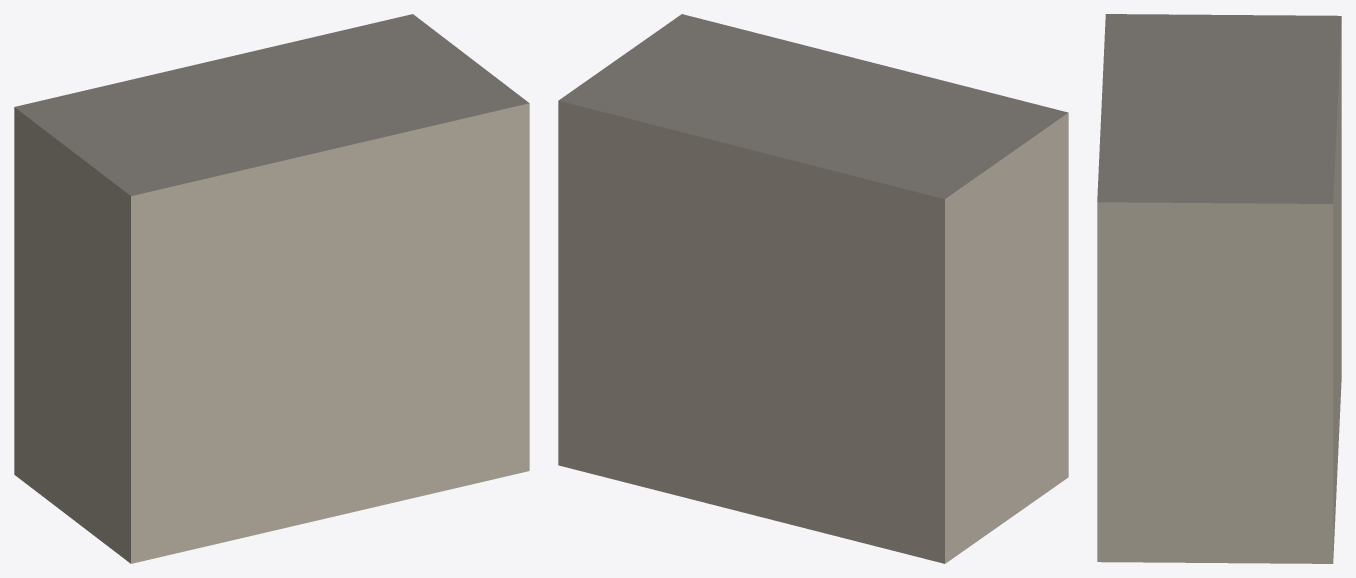
3 renders of one model, left to right at view 1: azimuth 30°, elevation 25°; view 2: azimuth 150°, elevation 25°; view 3: azimuth 270°, elevation 25°, orthographic. The views are drawn at different scales.
Visible parts, largest first — view 1: HP-w858824349; view 2: HP-w858824349; view 3: HP-w858824349.
Boxes of the visible parts, x1=… form: HP-w858824349: x1=14, y1=14, x2=529, y2=563; HP-w858824349: x1=558, y1=14, x2=1068, y2=563; HP-w858824349: x1=1097, y1=14, x2=1341, y2=563.
Bounding box in the file's own units: 20.39 × 18 × 11.09.
